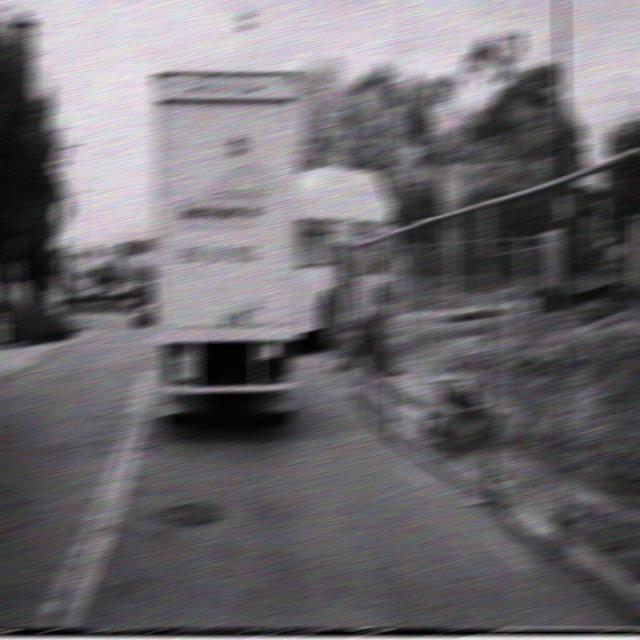stop_sign: (437, 162, 469, 214)
